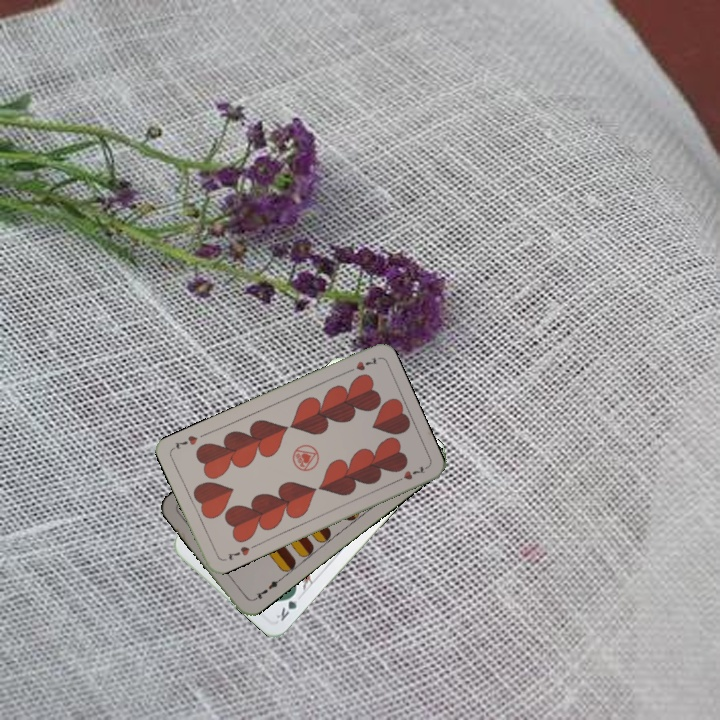E7: (248, 574, 284, 604)
GK: (272, 587, 300, 623)
H7: (342, 353, 381, 376), (224, 542, 252, 563)
